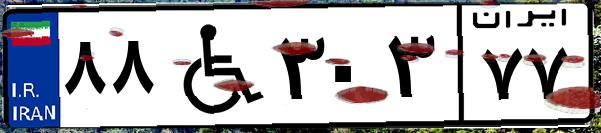0: (330, 28, 385, 110)
3: (270, 28, 330, 110), (385, 28, 445, 110)
7: (475, 38, 525, 113), (525, 38, 570, 115)
8: (57, 26, 110, 100), (110, 28, 158, 98)
ژ (معلولین و جانبازان): (158, 12, 270, 120)
